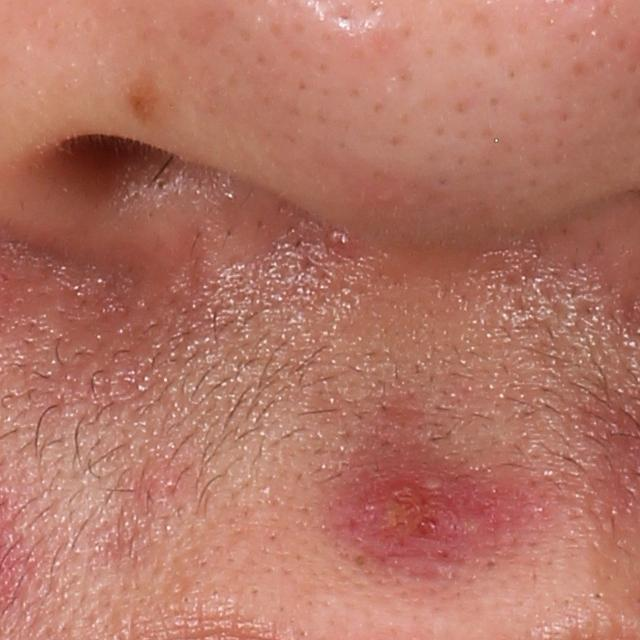nevus: (120, 62, 161, 128)
pustule: (355, 466, 488, 553)
